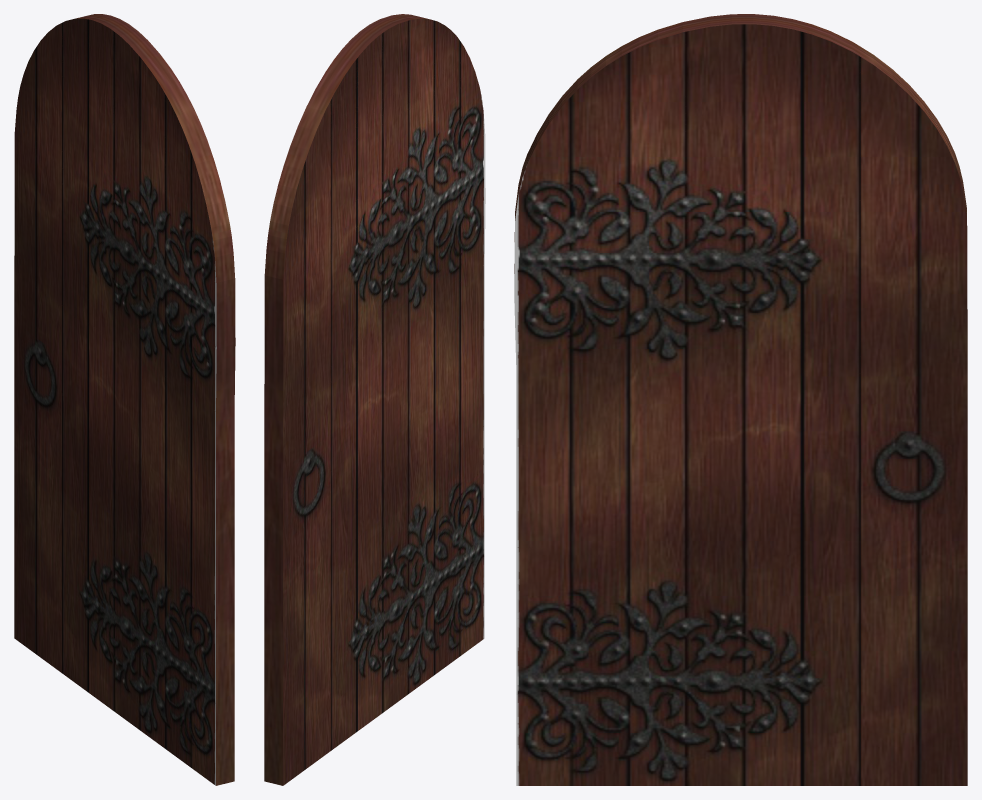
Rendered from door.dae.
3 views of the same model, side by side, from view 1: azimuth 30°, elevation 25°; view 2: azimuth 150°, elevation 25°; view 3: azimuth 270°, elevation 25° (orthographic). The views are drawn at different scales.
Parts seen in each view (by area): view 1: Extrude_NURBS_1_001; view 2: Extrude_NURBS_1_001; view 3: Extrude_NURBS_1_001.
Part boxes in pixels (bbox=[...]): Extrude_NURBS_1_001: bbox=[14, 14, 235, 785]; Extrude_NURBS_1_001: bbox=[264, 14, 485, 785]; Extrude_NURBS_1_001: bbox=[514, 14, 967, 785].
Size of the model in its own units: 0.2901 by 5.44 by 10.08.
1 material, 1 textured.
